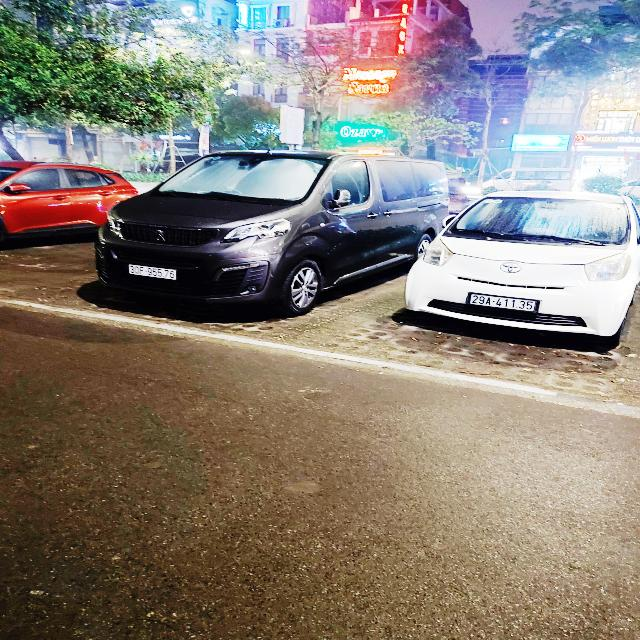license_plate: (470, 293, 539, 313)
